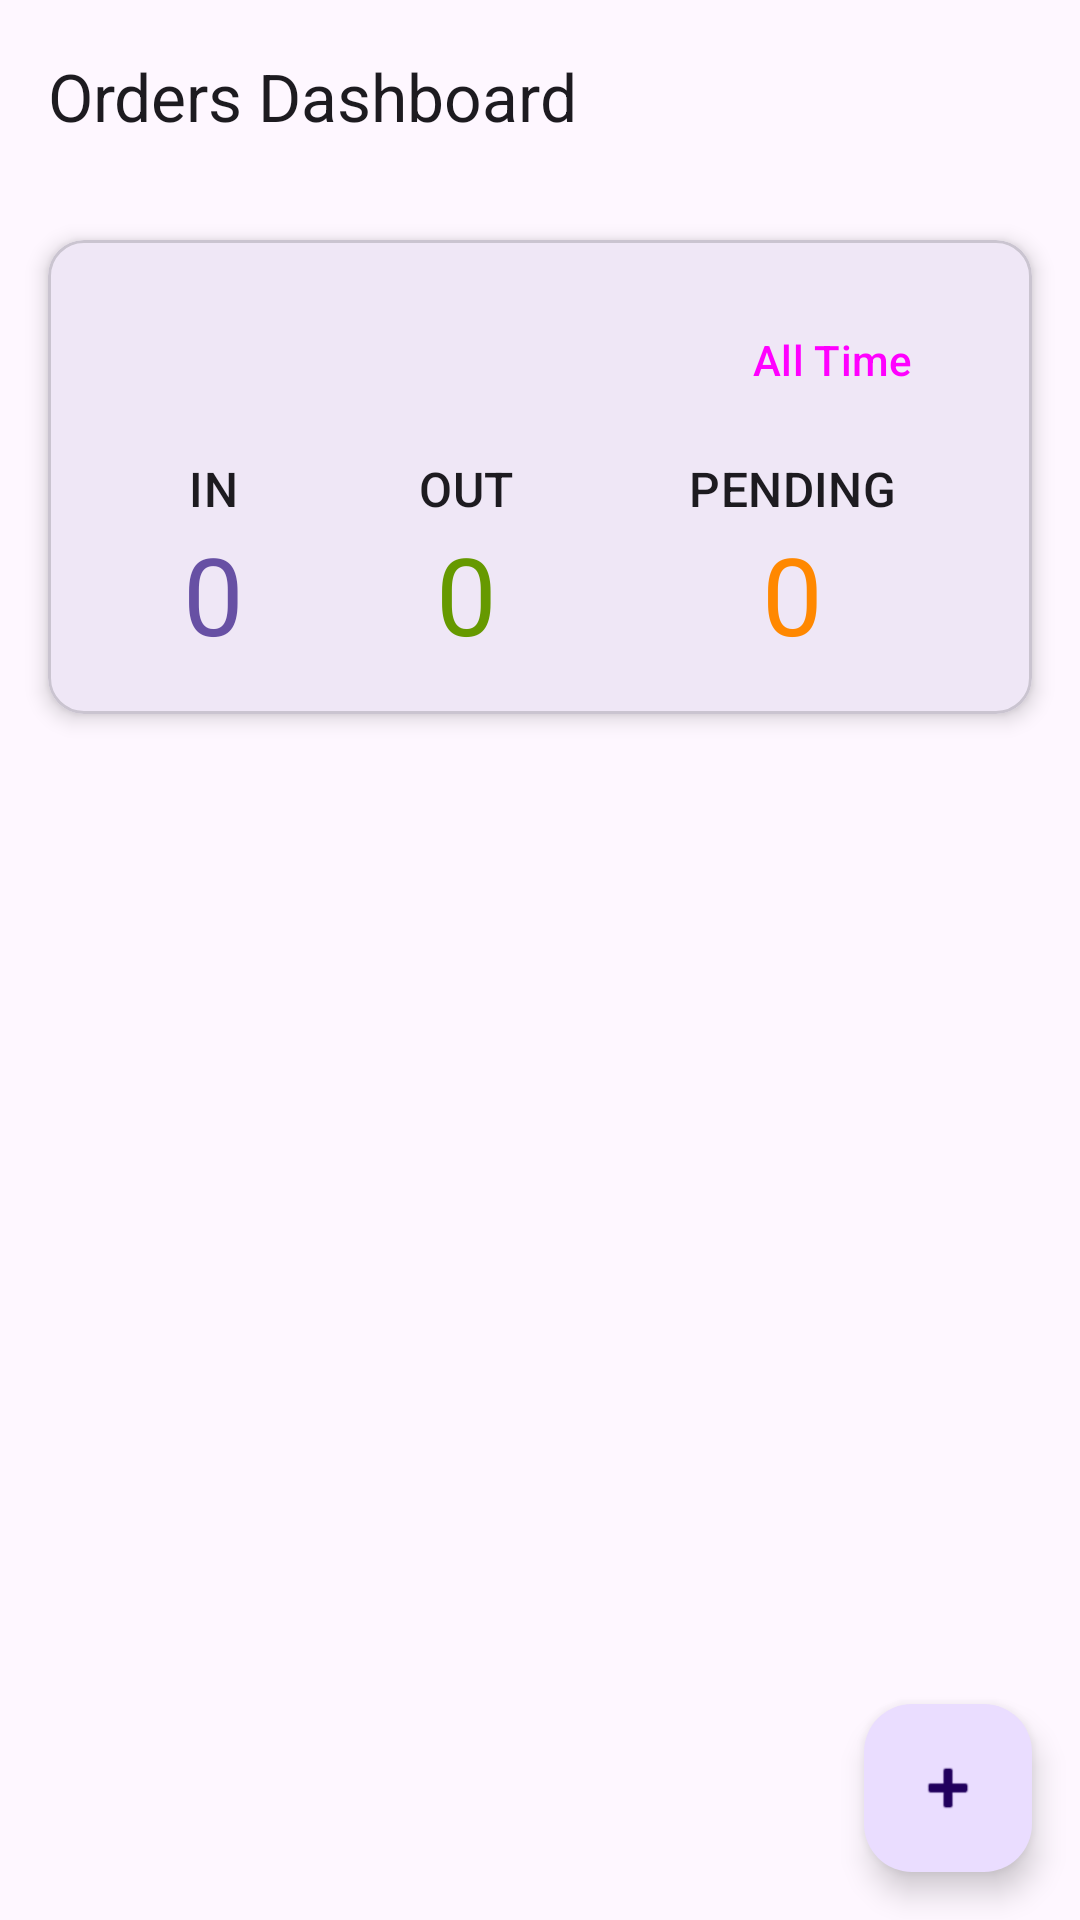

Icons on this 1080×1920 Android screen, each with its box as detection(x1, y1, x2, y2):
Add New Order: detection(864, 1704, 1032, 1872)
